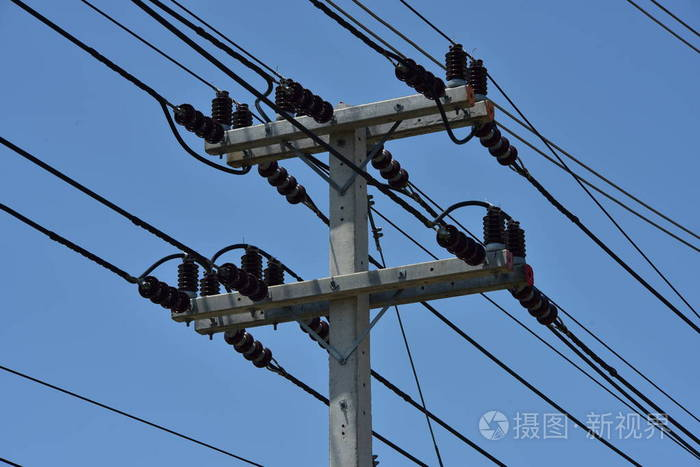insulator: (281, 80, 334, 127), (392, 58, 451, 99), (133, 276, 192, 315), (170, 104, 226, 144), (368, 140, 411, 190), (429, 227, 484, 266), (509, 284, 557, 328), (260, 161, 307, 205), (472, 123, 519, 166), (226, 329, 277, 367), (217, 266, 274, 300)
